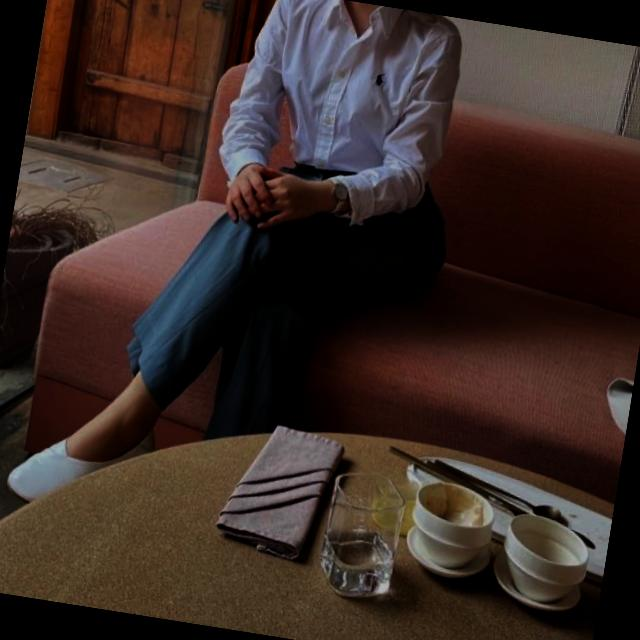shirt: (208, 0, 466, 238)
slacks: (112, 140, 456, 473)
